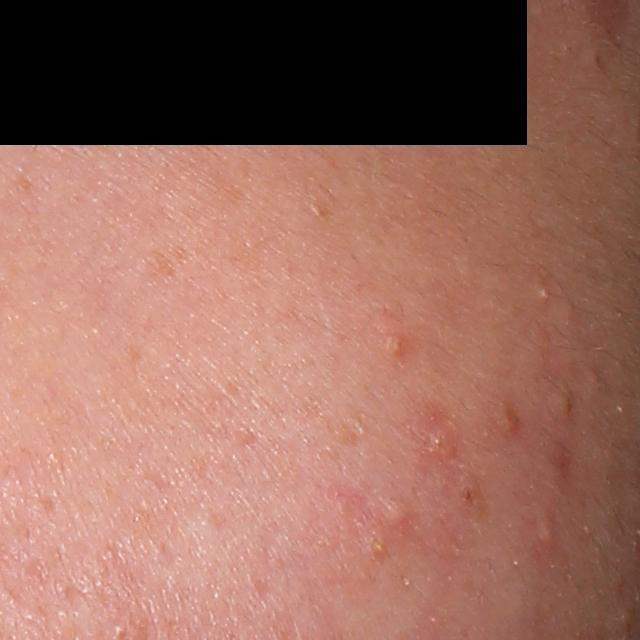comedo: (535, 520, 561, 551), (535, 283, 554, 304)
melasma: (142, 241, 191, 283)
papule: (425, 423, 460, 468)
